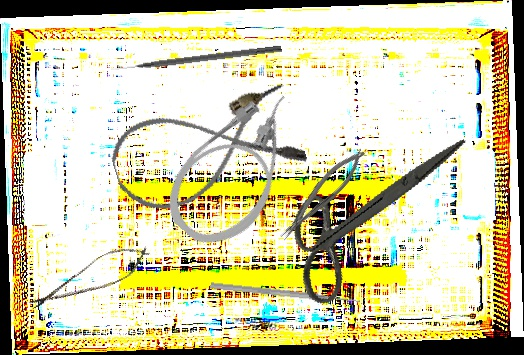Cannula: (149, 74, 330, 263), (103, 78, 310, 222)
Hook Surgical: (110, 43, 282, 74)
Iris Scissors: (270, 95, 468, 332)
Micro Scissor: (22, 235, 158, 322)
Needle Holder: (271, 143, 373, 245)
Pusher: (209, 281, 361, 306)
